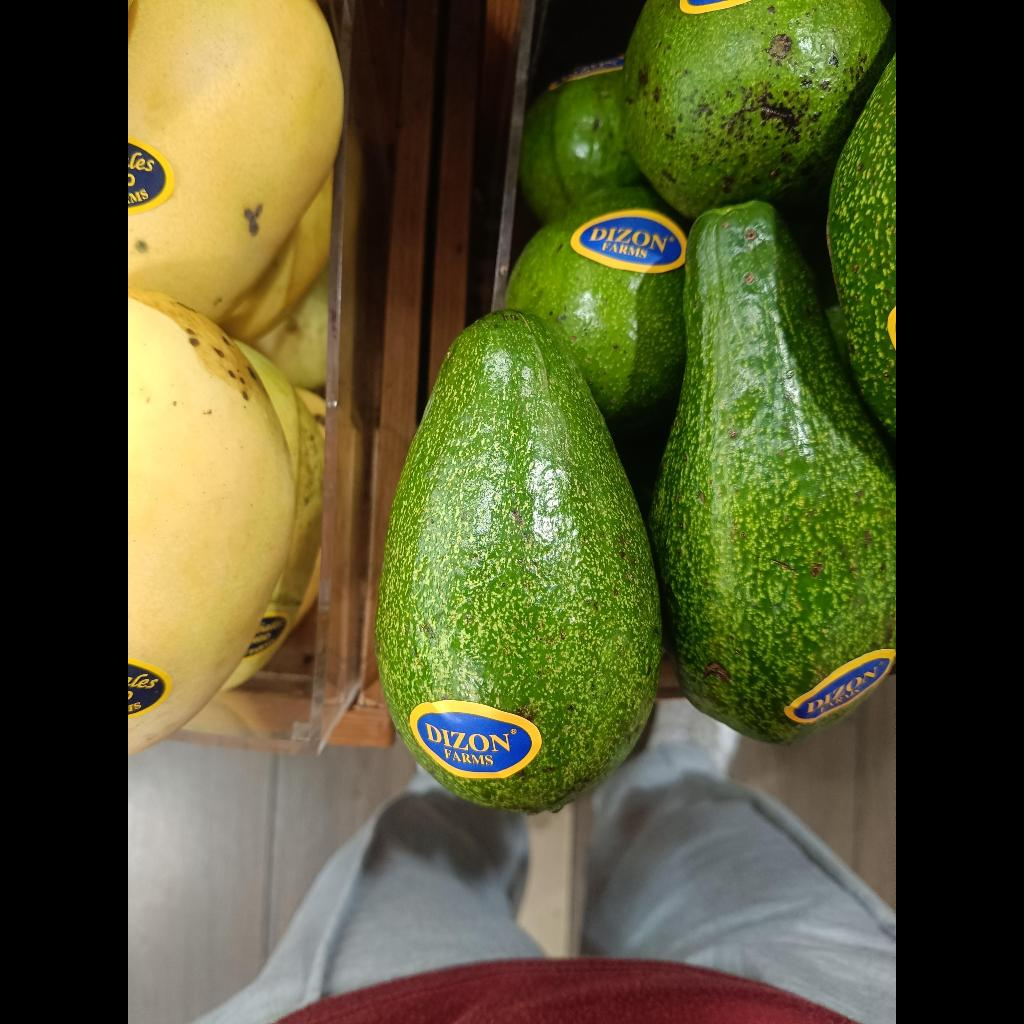fruto_sano: (375, 308, 661, 812)
